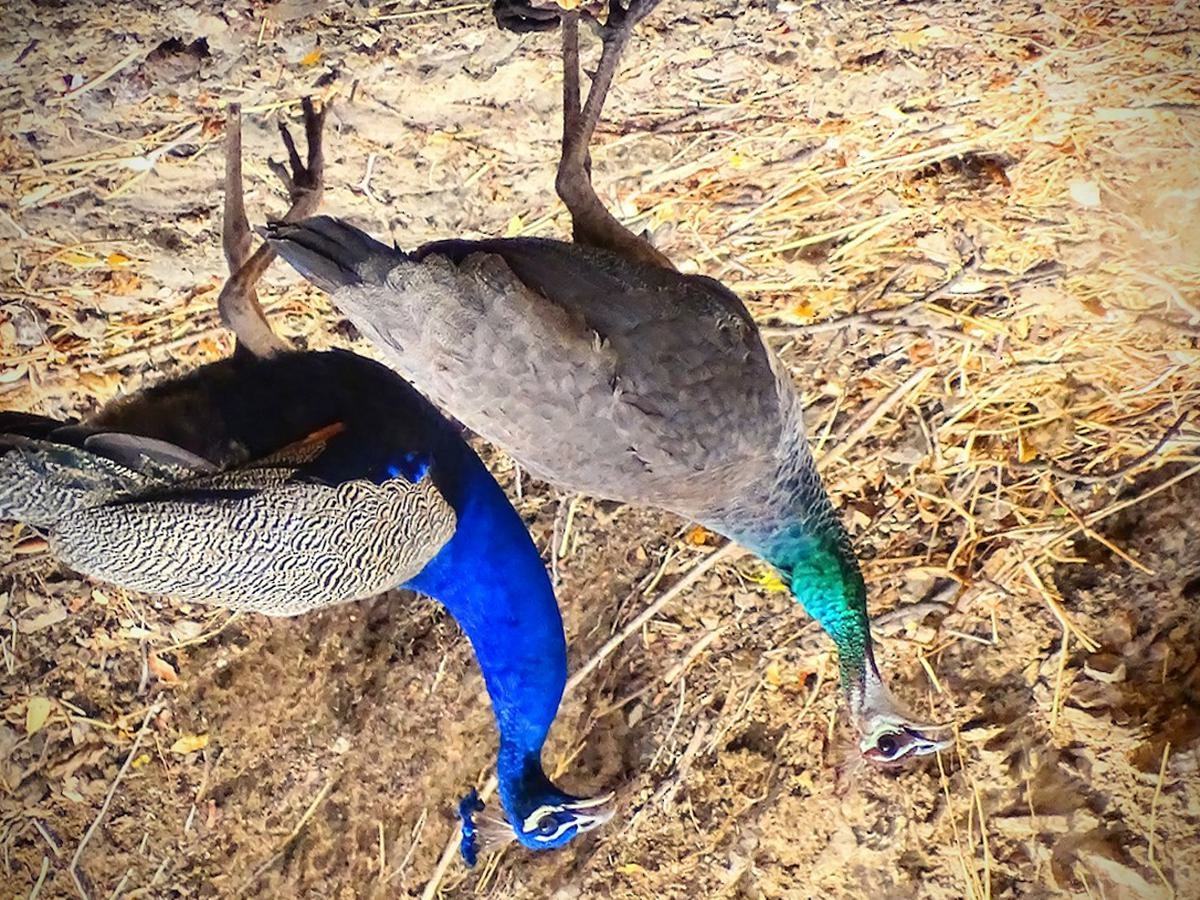peacock: (40, 178, 639, 868), (456, 90, 1000, 804)
